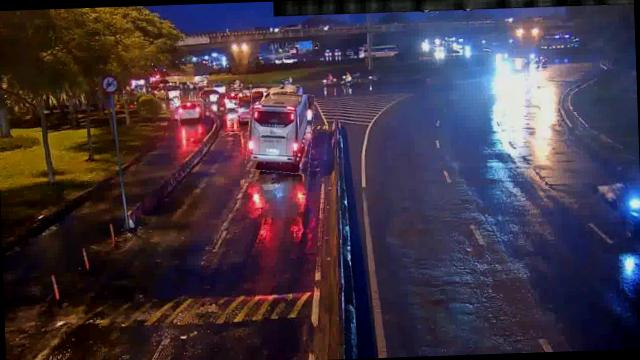Bus: (245, 90, 316, 175)
Car: (178, 100, 203, 121)
